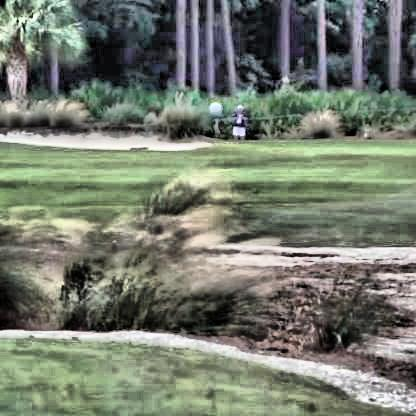golfball: (206, 99, 221, 115)
